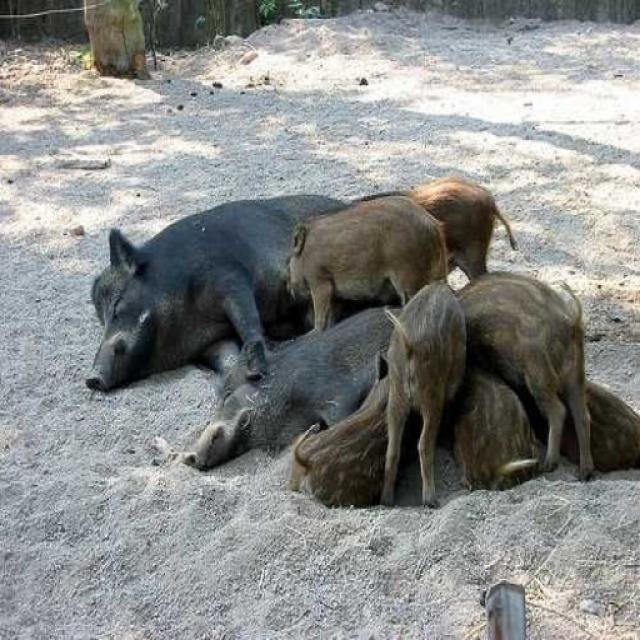pig: (171, 322, 506, 494), (72, 188, 366, 369), (450, 261, 615, 466), (376, 264, 476, 522), (280, 208, 448, 317)
